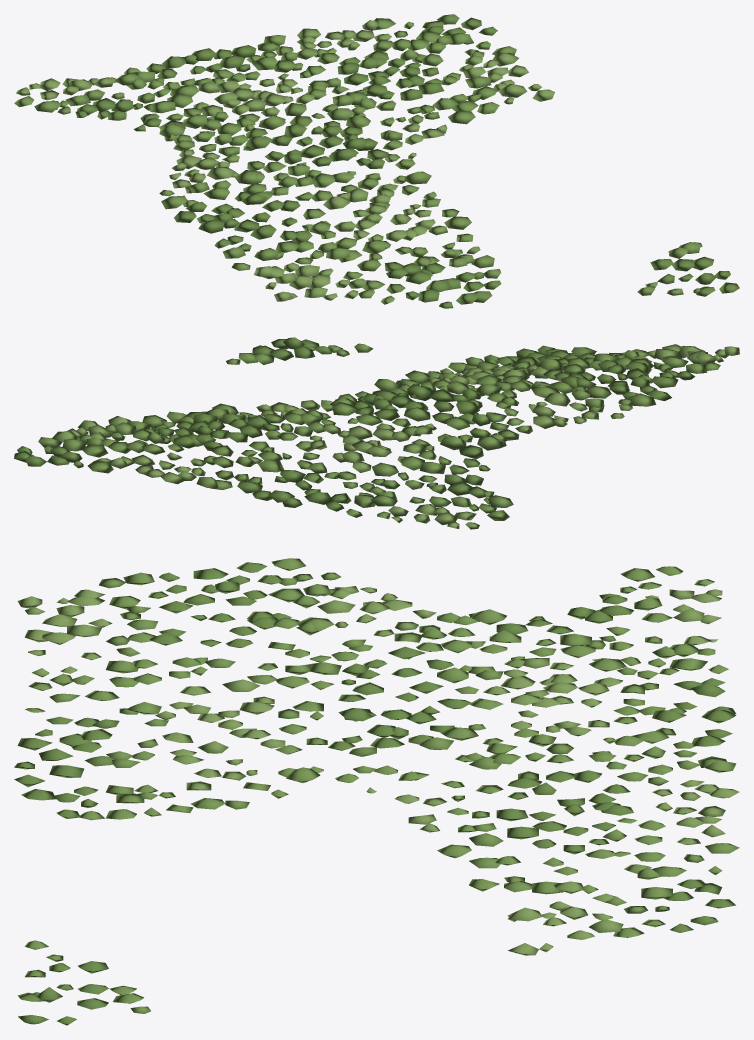
The model's file is canopy-1-3-0.glb.
3 views of the same model, one above another, from view 1: azimuth 30°, elevation 25°; view 2: azimuth 150°, elevation 25°; view 3: azimuth 270°, elevation 25° (orthographic). The views are drawn at different scales.
Bounding box in the file's own units: 518 × 138 × 515.
Materials: 1 (1 with a texture image).
